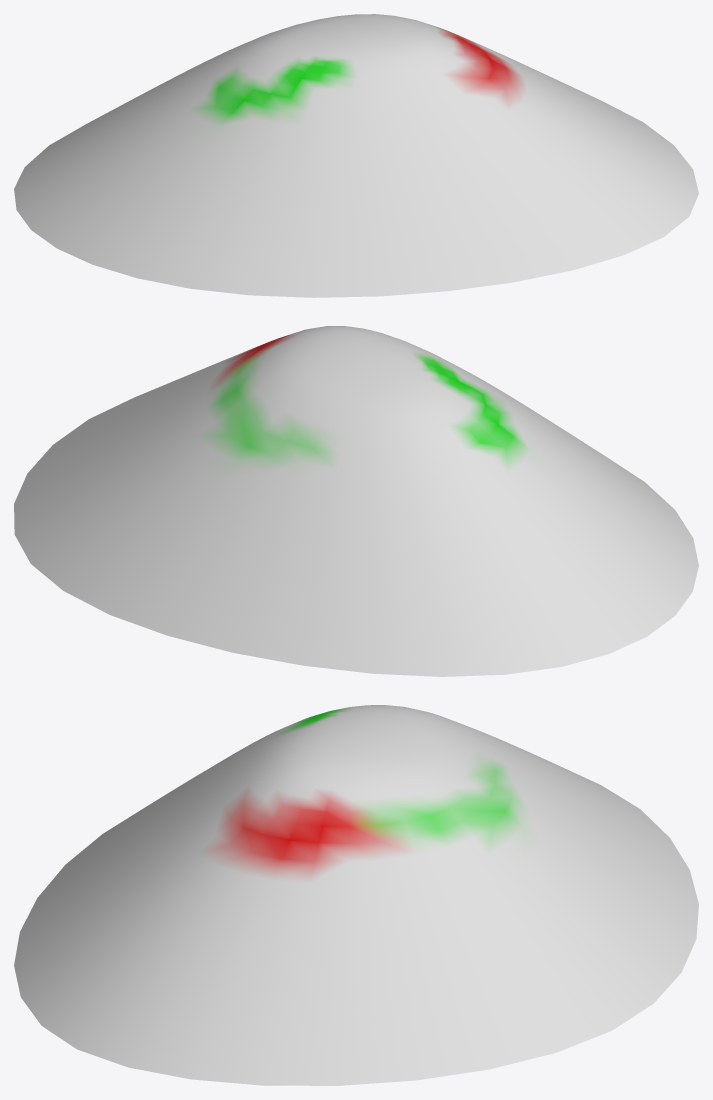
File: Terrain_02.fbx
3 renders of one model, top to bottom at view 1: azimuth 30°, elevation 25°; view 2: azimuth 150°, elevation 25°; view 3: azimuth 270°, elevation 25°, orthographic. The views are drawn at different scales.
Visible parts, largest first — view 1: Terrain_02; view 2: Terrain_02; view 3: Terrain_02.
Part boxes in pixels (bbox=[...]): Terrain_02: bbox=[14, 14, 698, 297]; Terrain_02: bbox=[14, 326, 698, 676]; Terrain_02: bbox=[14, 705, 698, 1085].
Bounding box in the file's own units: 23.91 × 6.11 × 20.6.
